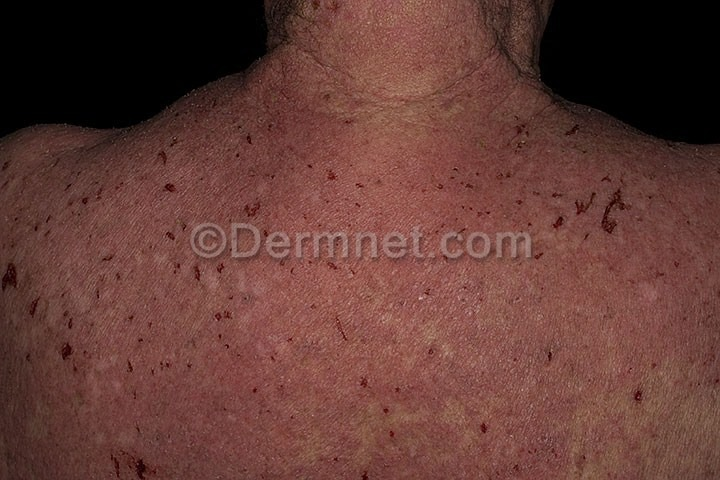Eczema: (9, 131, 718, 480), (277, 8, 538, 122)
